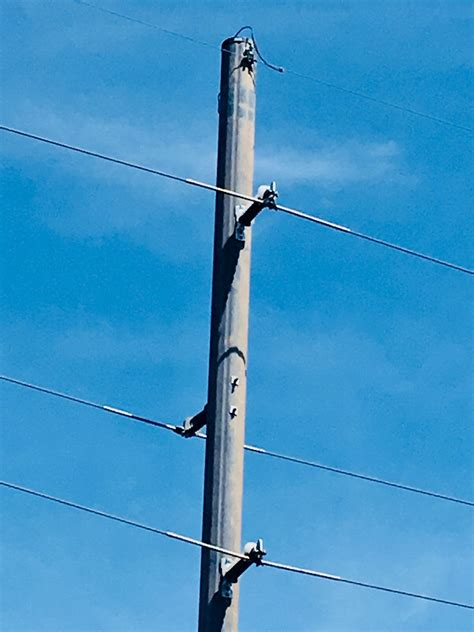pole: (182, 18, 279, 632)
